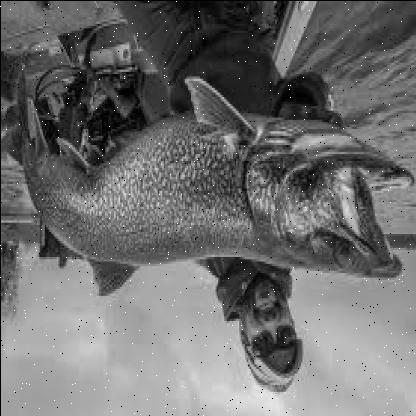fish: (6, 68, 415, 300)
